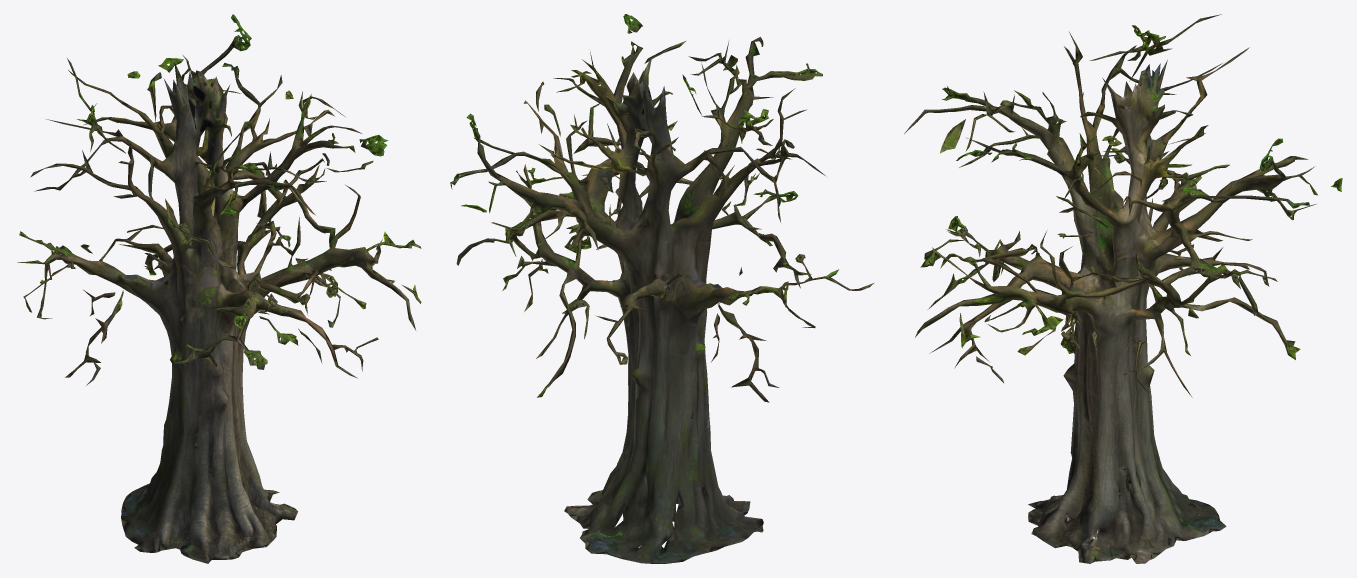
Rendered from Tree_Asset_Large_V1.2.glb.
3 views of the same model, side by side, from view 1: azimuth 30°, elevation 25°; view 2: azimuth 150°, elevation 25°; view 3: azimuth 270°, elevation 25° (orthographic). The views are drawn at different scales.
Bounding box in the file's own units: 1.62 × 1.95 × 1.66.
Materials: 1 (1 with a texture image).
